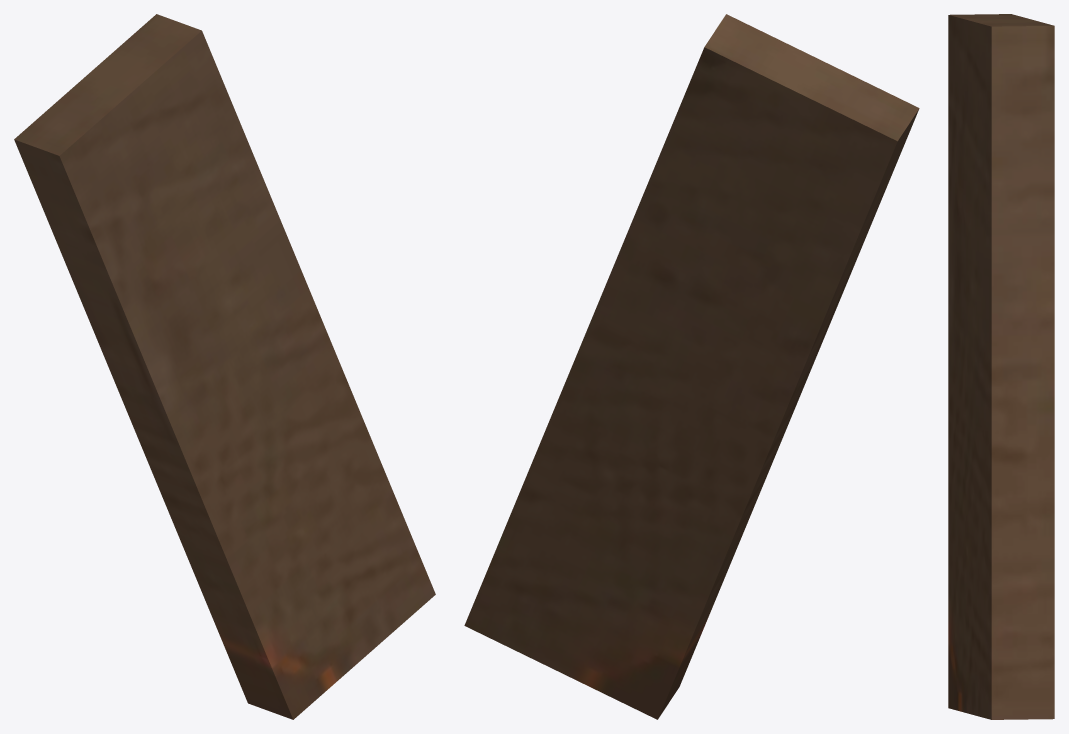
File: fan_left__blade_2.glb
3 renders of one model, left to right at view 1: azimuth 30°, elevation 25°; view 2: azimuth 150°, elevation 25°; view 3: azimuth 270°, elevation 25°, orthographic. The views are drawn at different scales.
Visible parts, largest first — view 1: geometry_0; view 2: geometry_0; view 3: geometry_0.
Boxes of the visible parts, box(x1,y1,x2,y2) form: geometry_0: box(14, 14, 435, 719); geometry_0: box(464, 14, 919, 719); geometry_0: box(948, 14, 1054, 719).
Bounding box in the file's own units: 0.0181 × 0.0291 × 0.00428.
1 material, 1 textured.
